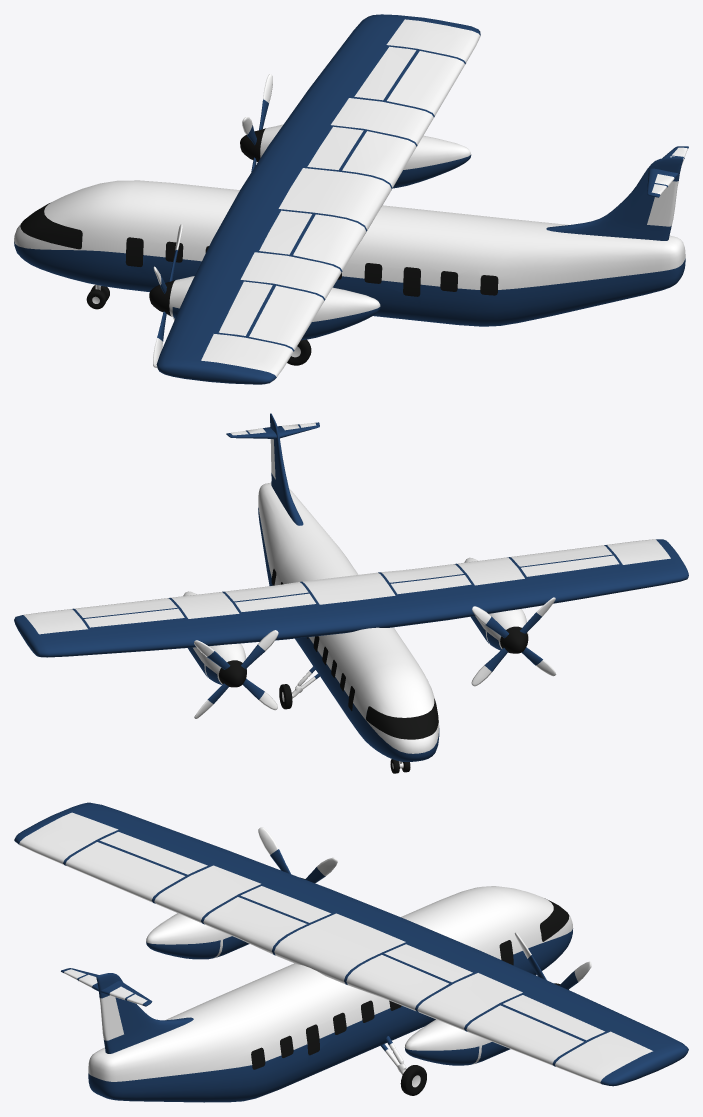
File: dxb-airliner.glb
The picture shows the model from 3 angles, top to bottom: view 1: azimuth 30°, elevation 25°; view 2: azimuth 150°, elevation 25°; view 3: azimuth 270°, elevation 25°; orthographic projection. The views are drawn at different scales.
Visible parts, largest first — view 1: 18.4.Airplane; view 2: 18.4.Airplane; view 3: 18.4.Airplane.
Boxes of the visible parts, x1=… form: 18.4.Airplane: x1=14, y1=14, x2=688, y2=384; 18.4.Airplane: x1=14, y1=413, x2=688, y2=773; 18.4.Airplane: x1=14, y1=802, x2=688, y2=1102.
Bounding box in the file's own units: 39.67 × 13.57 × 40.55.
1 material, 1 textured.
